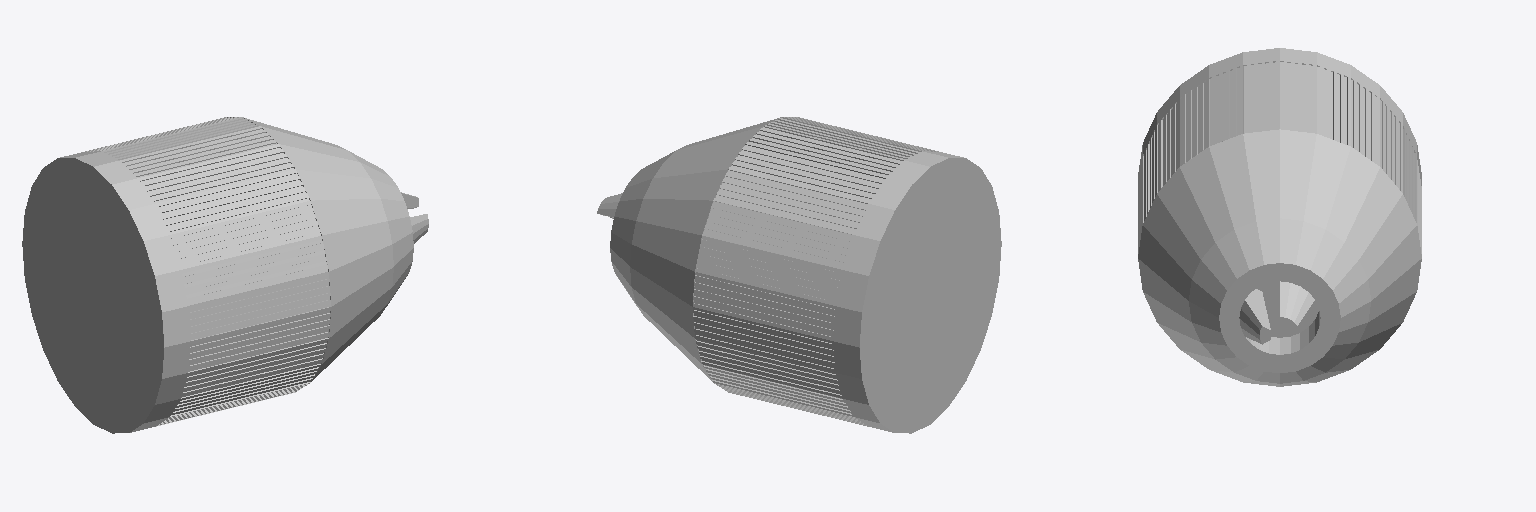
File: chuck.obj
3 renders of one model, left to right at view 1: azimuth 30°, elevation 25°; view 2: azimuth 150°, elevation 25°; view 3: azimuth 270°, elevation 25°, orthographic.
Visible parts, largest first — view 1: Chuck_model.009; view 2: Chuck_model.009; view 3: Chuck_model.009.
Boxes of the visible parts, <box> form: Chuck_model.009: <box>22,117,428,433</box>; Chuck_model.009: <box>597,117,1001,433</box>; Chuck_model.009: <box>1138,48,1421,386</box>.
Size of the model in its own units: 0.0578 by 0.0437 by 0.0437.